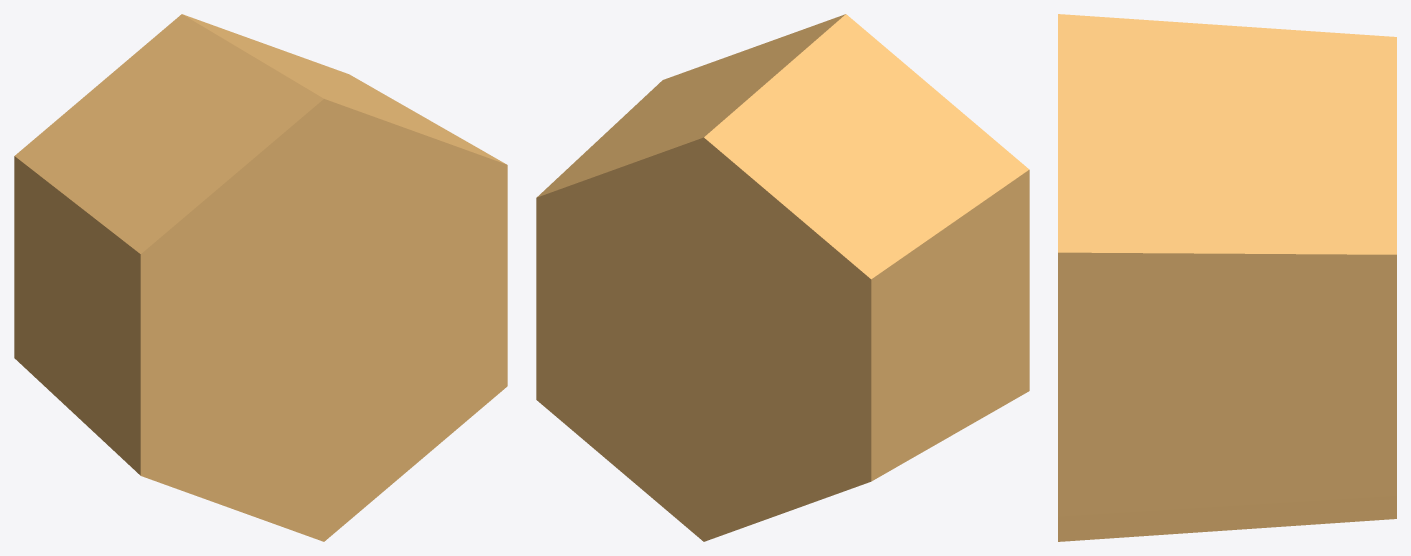
The model's file is CoconutOilLabel.obj.
The picture shows the model from 3 angles, left to right: view 1: azimuth 30°, elevation 25°; view 2: azimuth 150°, elevation 25°; view 3: azimuth 270°, elevation 25°; orthographic projection. The views are drawn at different scales.
Parts seen in each view (by area): view 1: glass.003; view 2: glass.003; view 3: glass.003.
Part boxes in pixels (box(x1,y1,x2,y2)): glass.003: box(14, 14, 507, 541); glass.003: box(536, 14, 1029, 541); glass.003: box(1058, 14, 1396, 541).
Bounding box in the file's own units: 0.1197 × 0.1382 × 0.0804.
